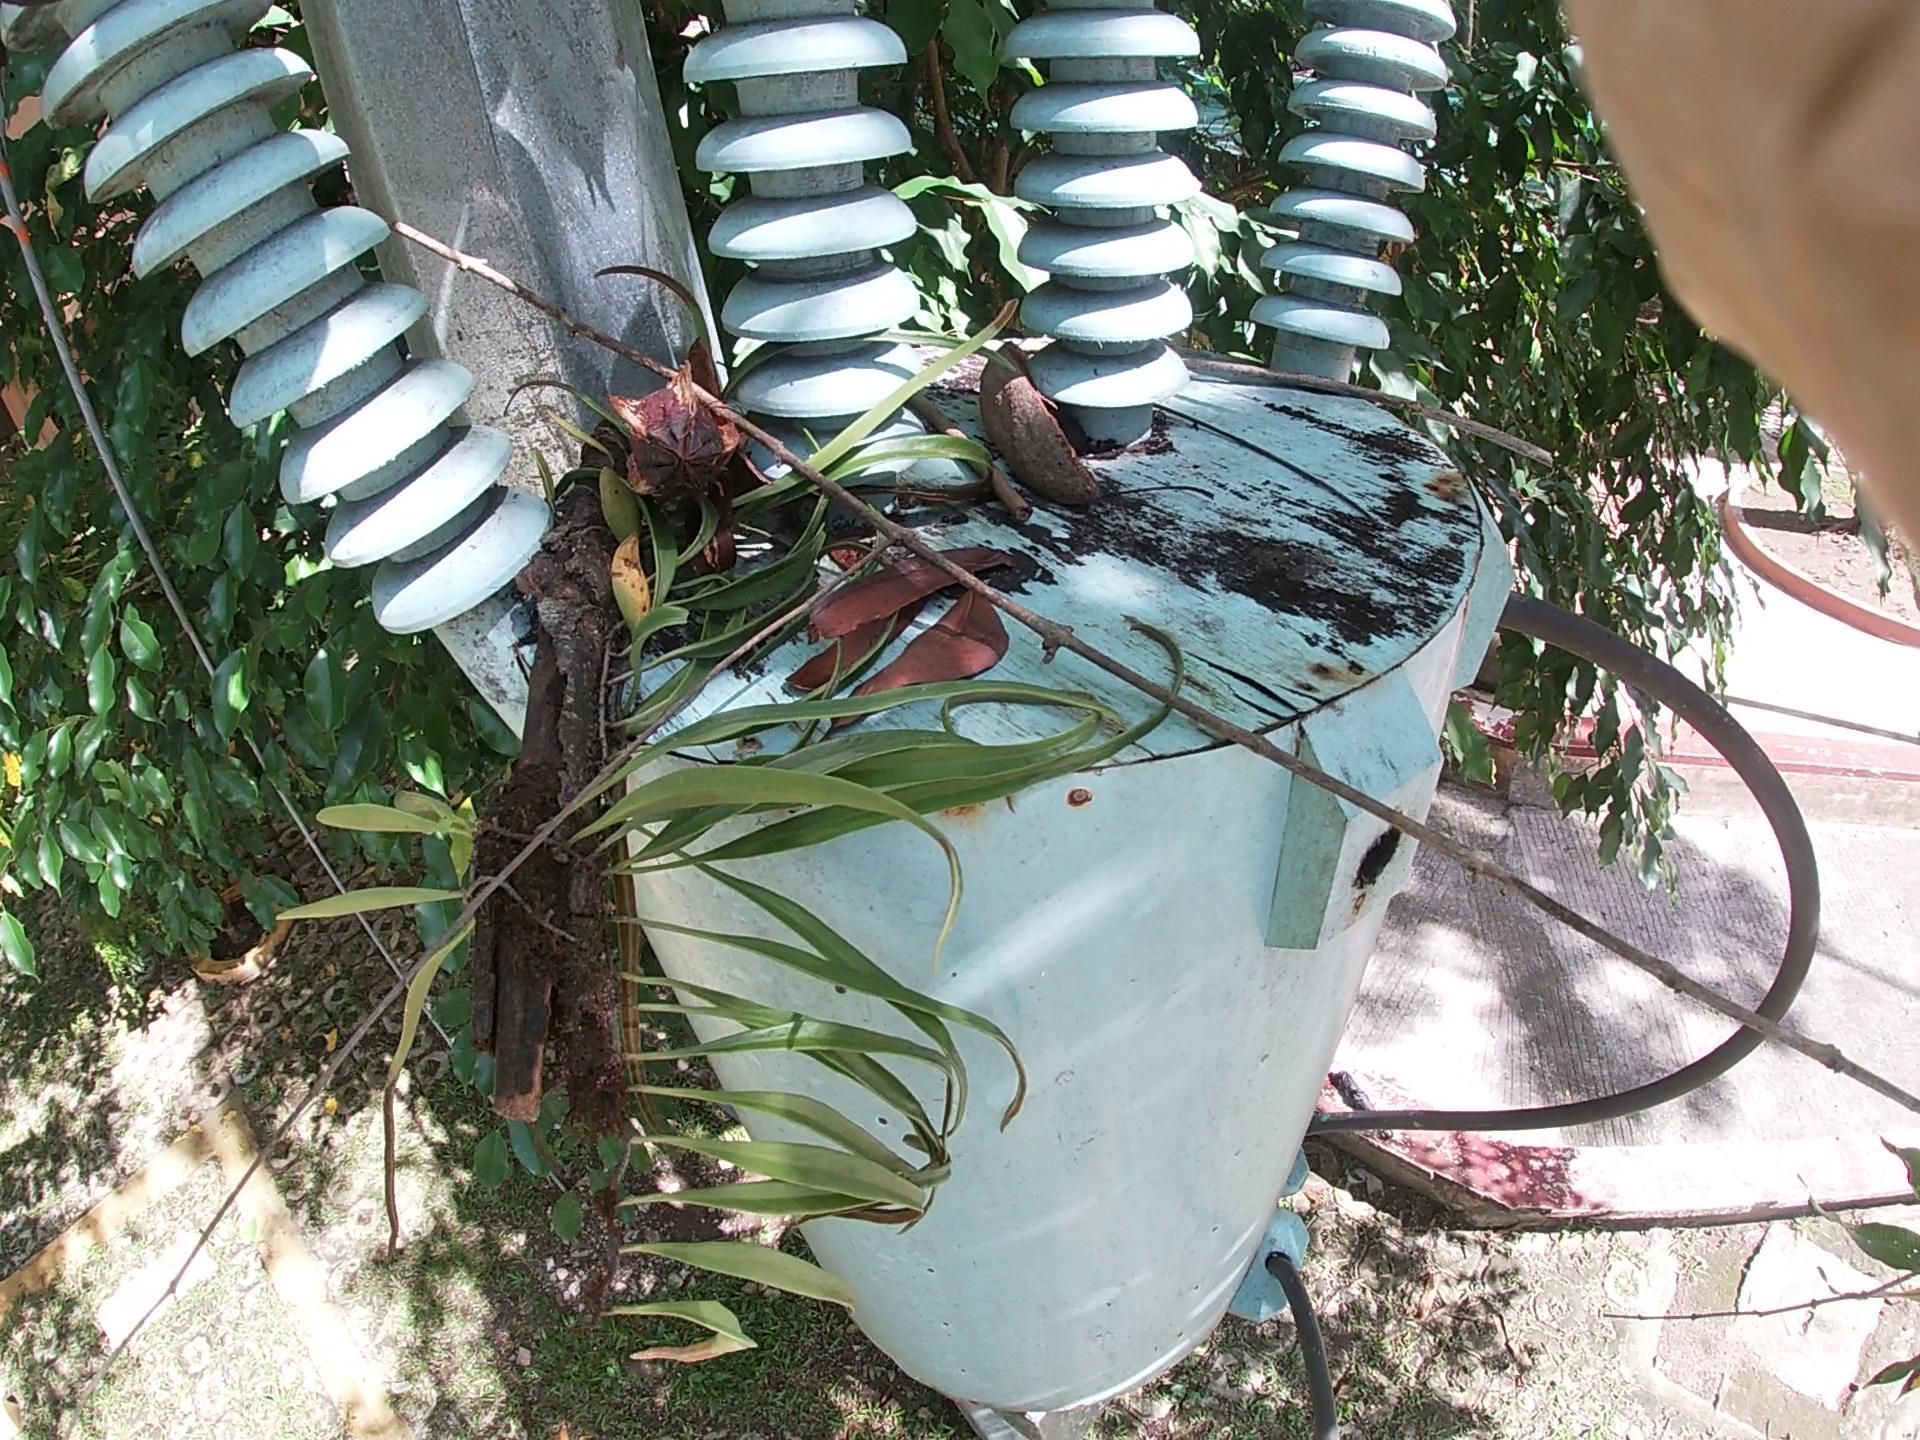leaf: (777, 555, 1092, 755)
mahogany fruit: (559, 330, 741, 537), (986, 315, 1128, 542)
tree branch: (423, 228, 1583, 953), (328, 73, 921, 1181), (1191, 334, 1625, 483), (928, 304, 1143, 579)
